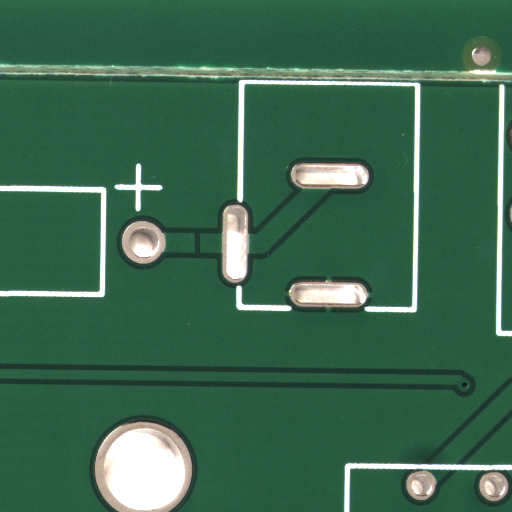Open_circuit: (197, 243, 204, 264)
